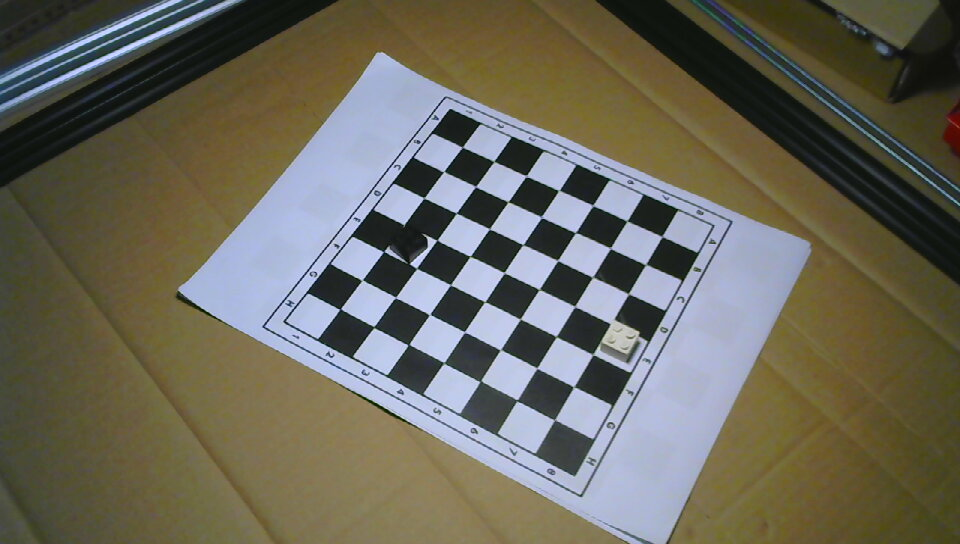bp: (390, 227, 428, 263)
wp: (601, 319, 639, 362)
